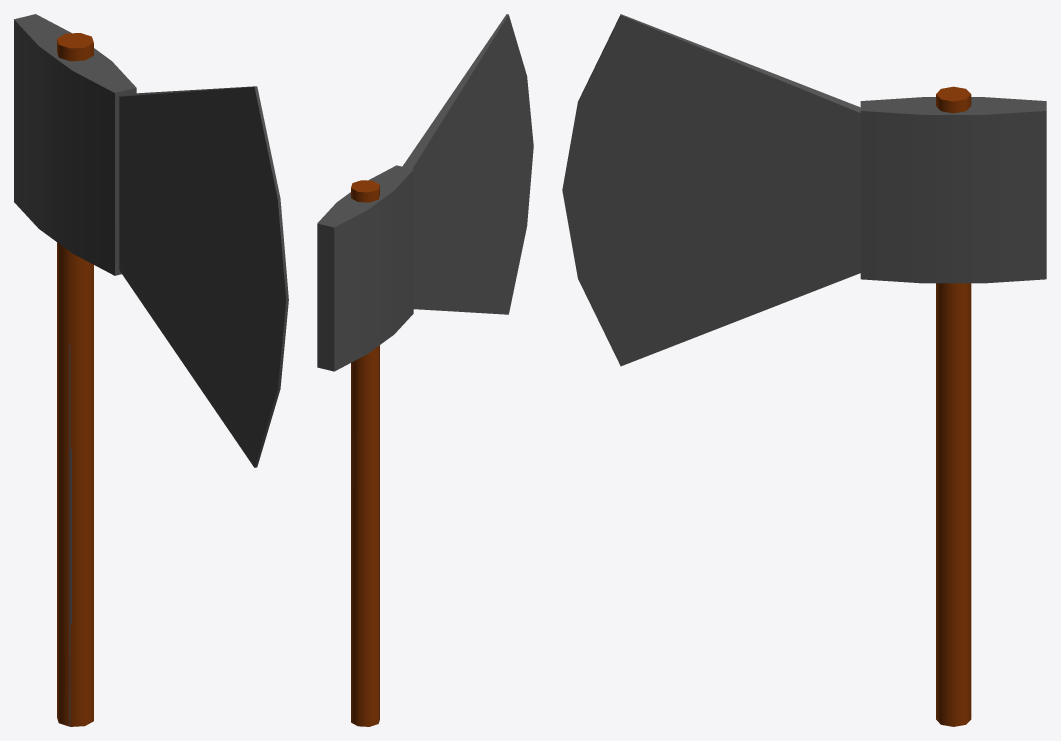
The model's file is axe.glb.
3 views of the same model, side by side, from view 1: azimuth 30°, elevation 25°; view 2: azimuth 150°, elevation 25°; view 3: azimuth 270°, elevation 25° (orthographic). The views are drawn at different scales.
Parts seen in each view (by area): view 1: Cube; view 2: Cube; view 3: Cube.
Part boxes in pixels (box(x1,y1,x2,y2)): Cube: box(14, 14, 288, 726); Cube: box(317, 14, 533, 726); Cube: box(562, 14, 1046, 726).
Bounding box in the file's own units: 0.0139 × 0.2572 × 0.1601.
Materials: 1 (1 with a texture image).
